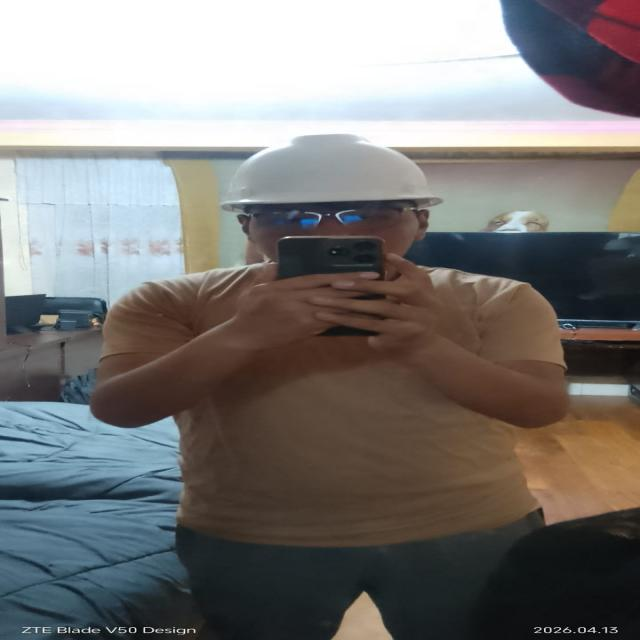casco: (172, 115, 479, 222)
